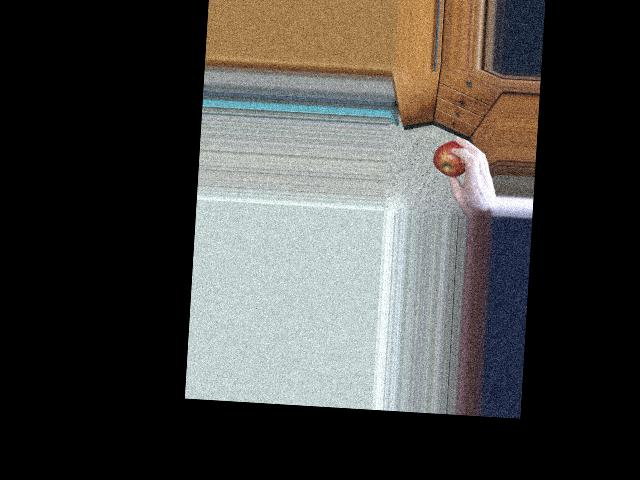apple: (431, 135, 473, 180)
